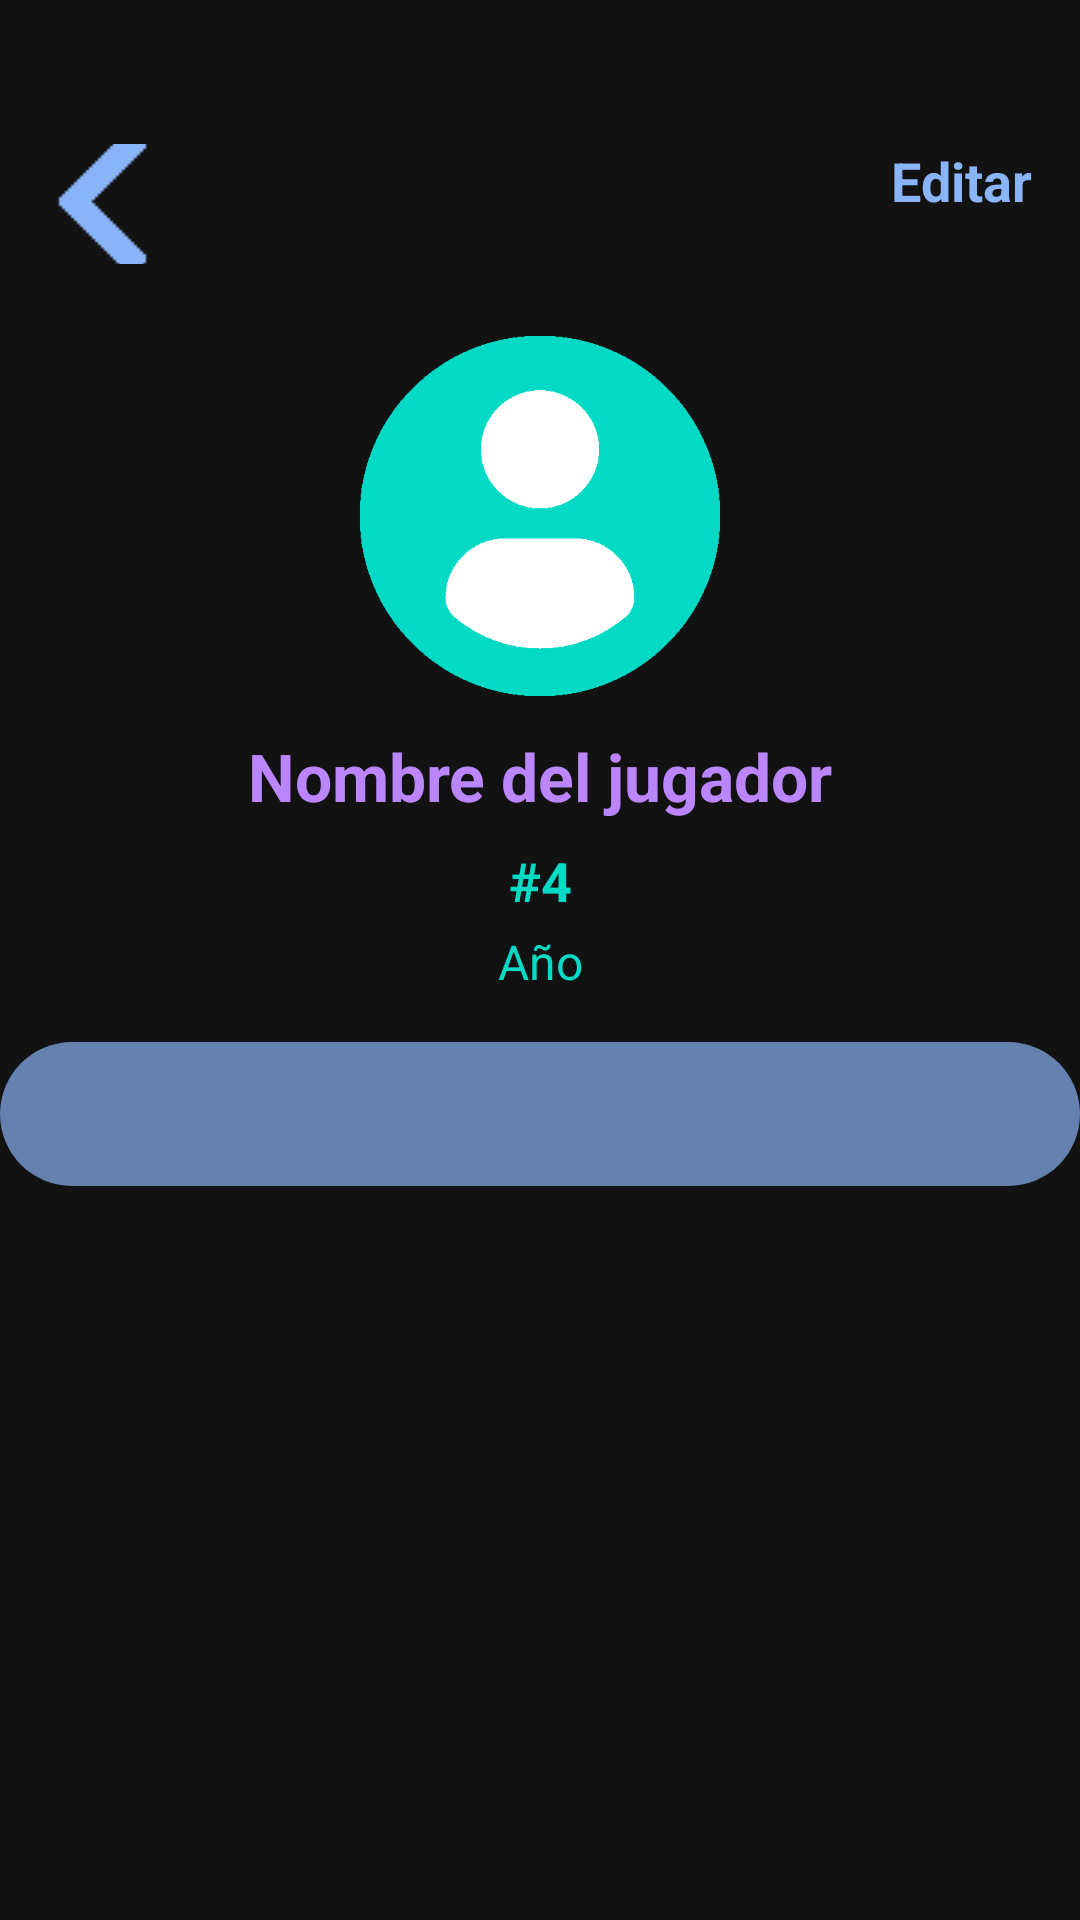

Point at icon controls on the screen. Image size 1080px x 1920px, points as point (x, y).
Foto del jugador: point (540, 516)
Volver atrás: point (102, 204)
